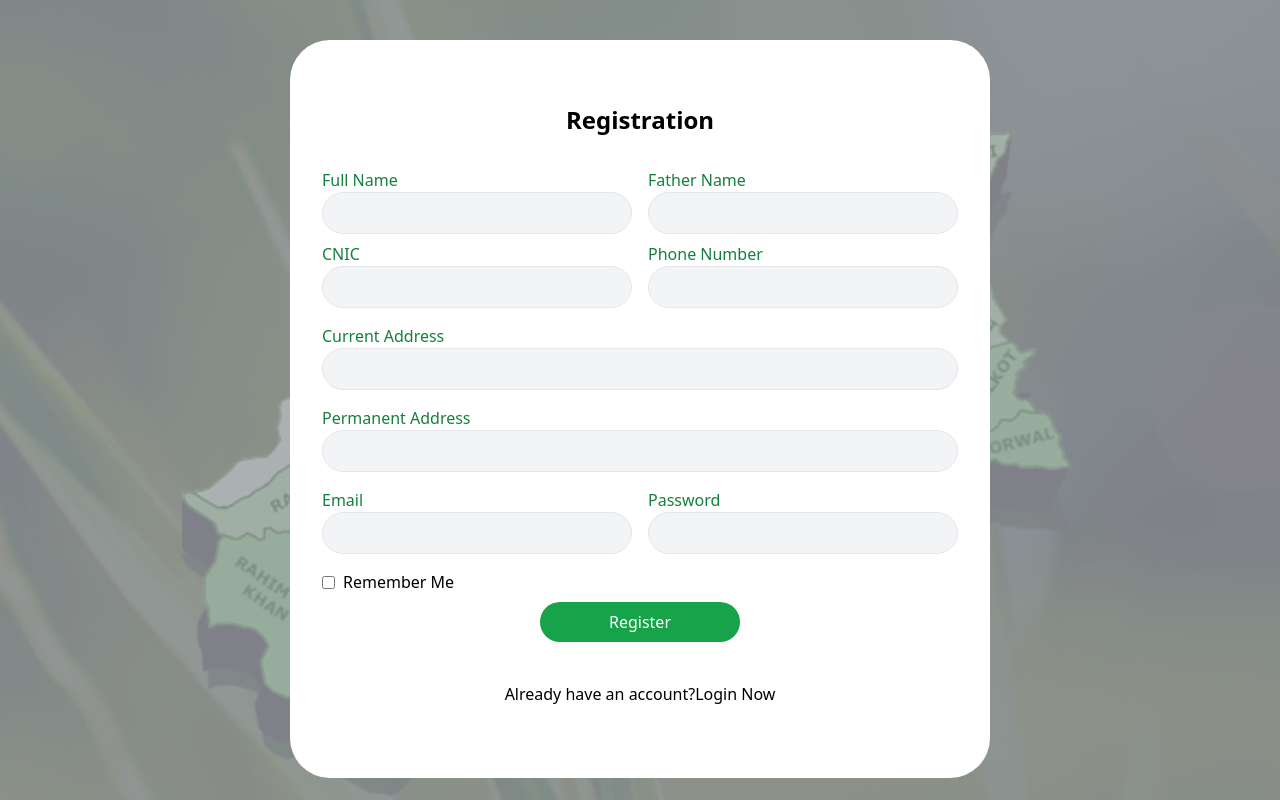
Test case: Register Component › displays validation errors on invalid form submission
What coordinates should you click on to do the following:
click the button "Register"
I would click on:
 (640, 622)
Its box is top-left (540, 602), bottom-right (740, 642).
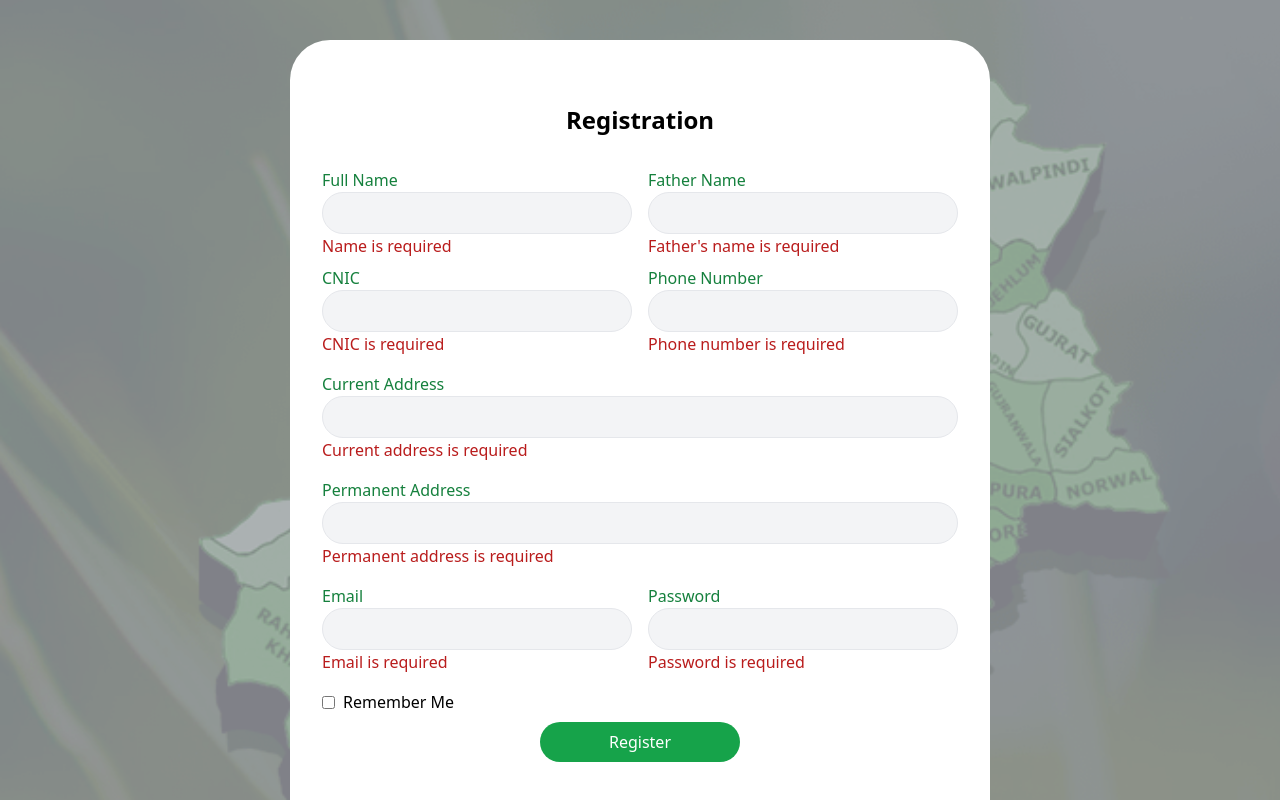
Check: the text "Name is required" is shown, box top-left (322, 235), bottom-right (452, 257)
Check: the text "Father's name is required" is shown, box top-left (648, 235), bottom-right (840, 257)
Check: the text "CNIC is required" is shown, box top-left (322, 333), bottom-right (444, 355)
